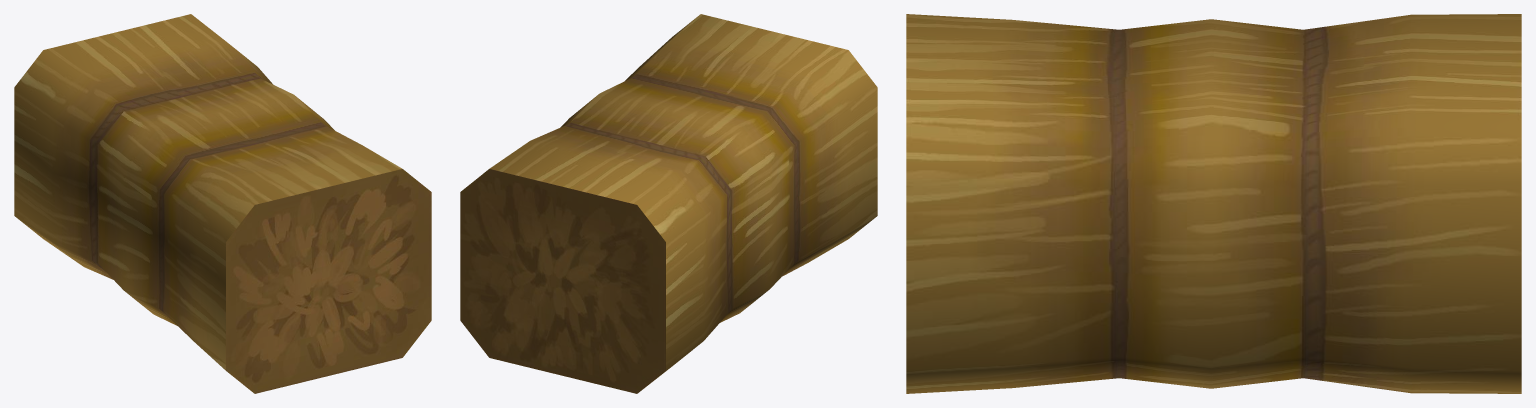
Rendered from hay_bale.obj.
The picture shows the model from 3 angles, left to right: view 1: azimuth 30°, elevation 25°; view 2: azimuth 150°, elevation 25°; view 3: azimuth 270°, elevation 25°; orthographic projection. The views are drawn at different scales.
Parts seen in each view (by area): view 1: hay_poly_hay_mesh; view 2: hay_poly_hay_mesh; view 3: hay_poly_hay_mesh.
Part boxes in pixels (box(x1,y1,x2,y2)): hay_poly_hay_mesh: box(14, 14, 431, 393); hay_poly_hay_mesh: box(460, 14, 877, 393); hay_poly_hay_mesh: box(906, 14, 1521, 393).
Bounding box in the file's own units: 5.03 × 4.46 × 8.98.
1 material, 1 textured.
